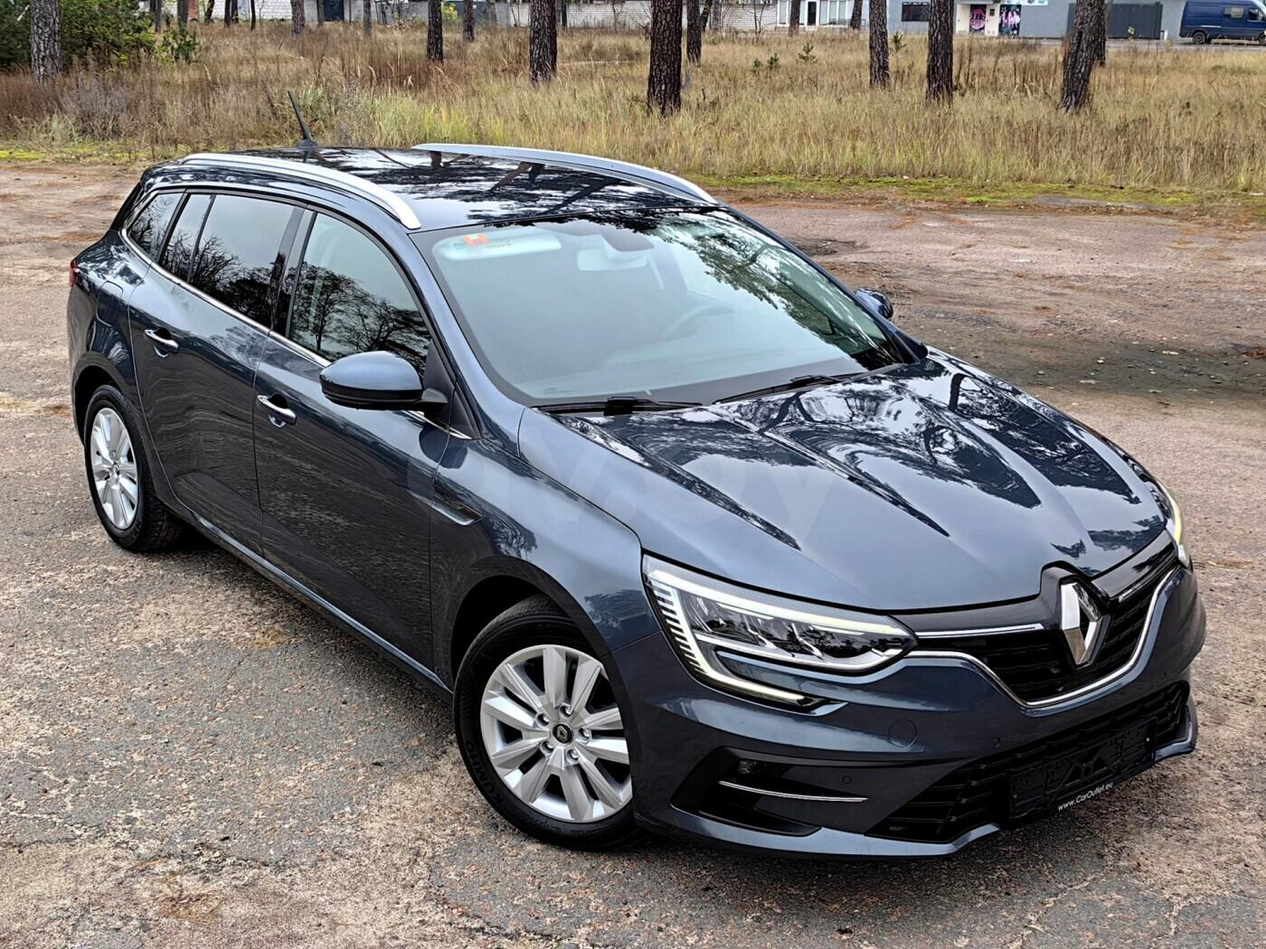Megane_2020: (53, 143, 1213, 879)
